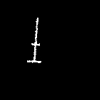double_crochet: (27, 18, 40, 62)
